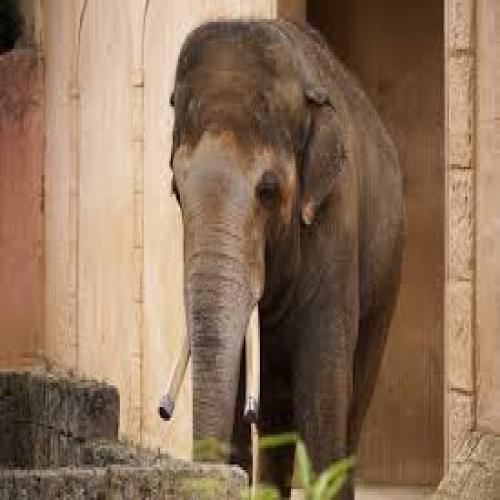asian_elephant-endangered: (162, 16, 408, 488)
